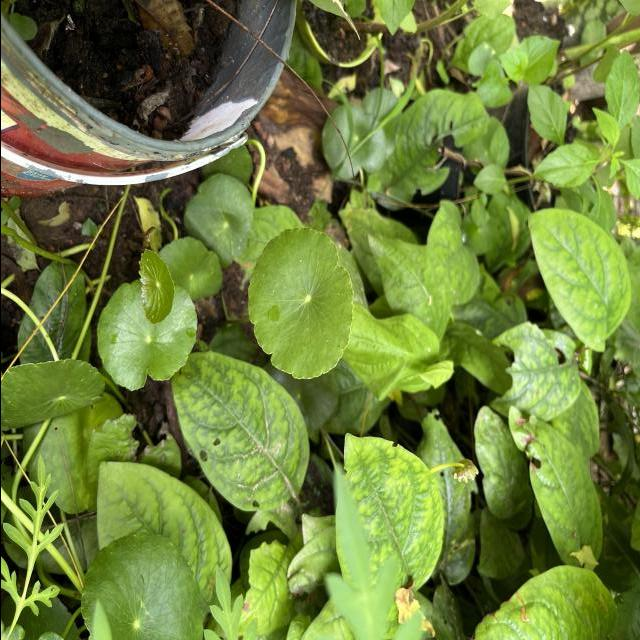Bacopa monnieri: (244, 224, 356, 384), (93, 277, 200, 393), (130, 248, 176, 330)
